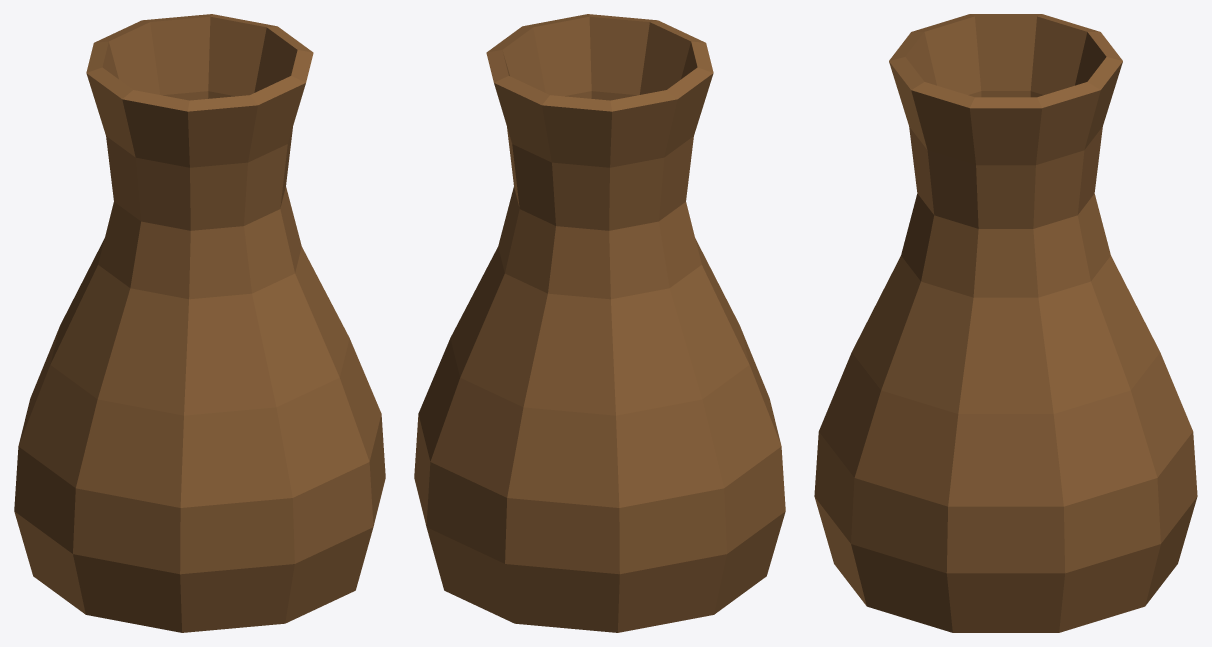
The model's file is Jarron.fbx.
3 views of the same model, side by side, from view 1: azimuth 30°, elevation 25°; view 2: azimuth 150°, elevation 25°; view 3: azimuth 270°, elevation 25° (orthographic).
Visible parts, largest first — view 1: Jarron; view 2: Jarron; view 3: Jarron.
Part boxes in pixels (box(x1,y1,x2,y2)): Jarron: box(14, 14, 385, 632); Jarron: box(414, 14, 785, 632); Jarron: box(814, 14, 1197, 632).
Bounding box in the file's own units: 146 × 224 × 154.
